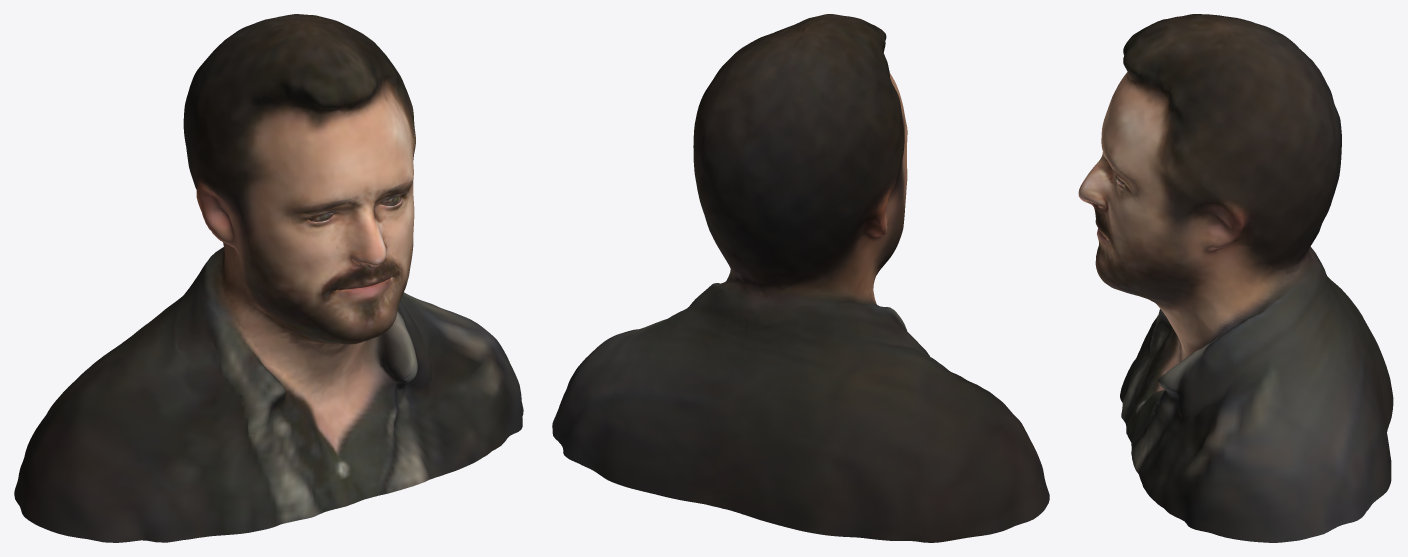
The model's file is jes.glb.
3 renders of one model, left to right at view 1: azimuth 30°, elevation 25°; view 2: azimuth 150°, elevation 25°; view 3: azimuth 270°, elevation 25°, orthographic. The views are drawn at different scales.
Parts seen in each view (by area): view 1: Object_2; view 2: Object_2; view 3: Object_2.
Part boxes in pixels (<box>): Object_2: <box>14,14,523,542</box>; Object_2: <box>552,14,1049,542</box>; Object_2: <box>1078,14,1393,542</box>.
Bounding box in the file's own units: 0.4597 × 0.3957 × 0.2737.
Materials: 1 (1 with a texture image).
